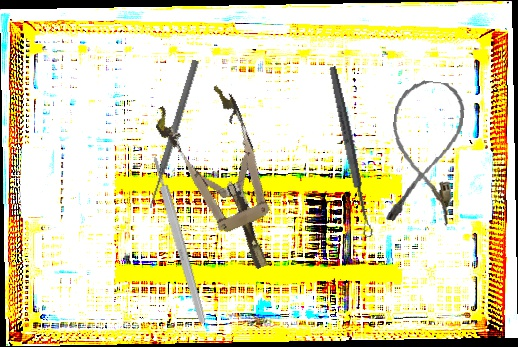Cannula: (381, 77, 468, 228)
Pusher: (145, 58, 201, 210)
Scalpel Handle: (150, 154, 208, 326)
Speculum: (149, 79, 300, 284)
Surgical Spoon: (327, 65, 374, 239)
